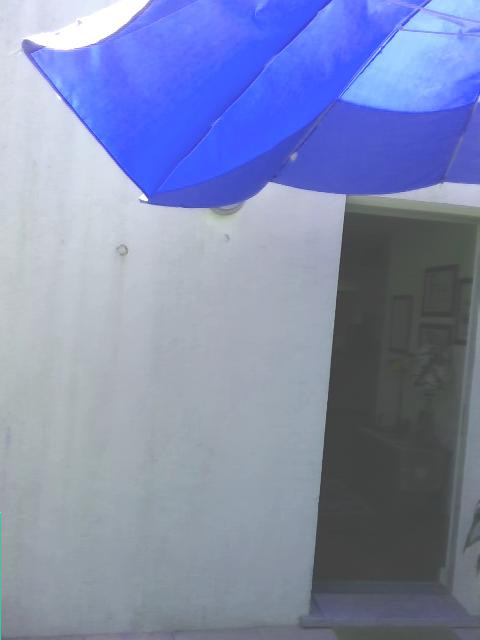open_door: (307, 191, 479, 634)
